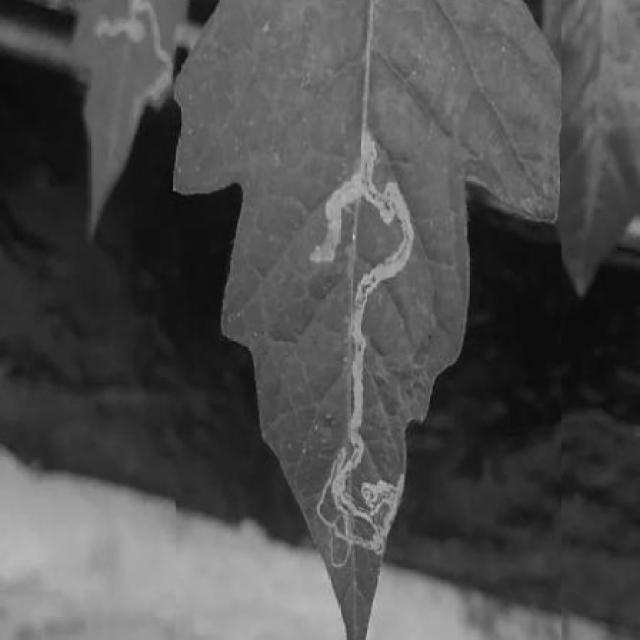Leaf Miner: (176, 0, 561, 640)
